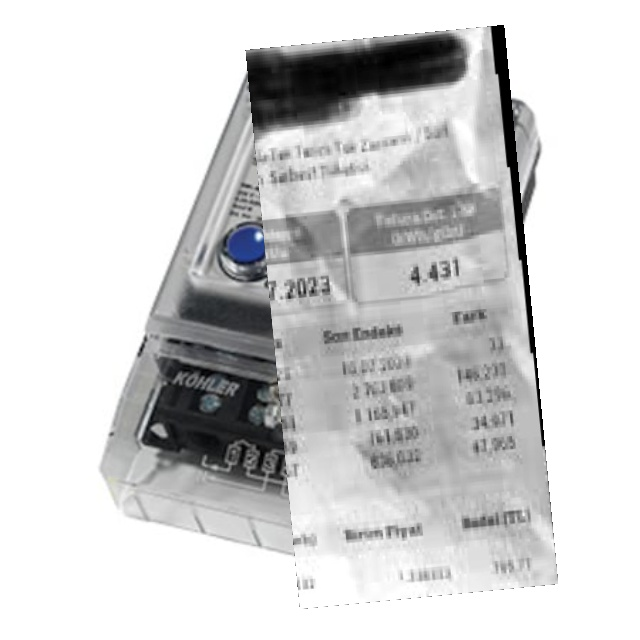electricity-bill: (245, 24, 558, 608)
